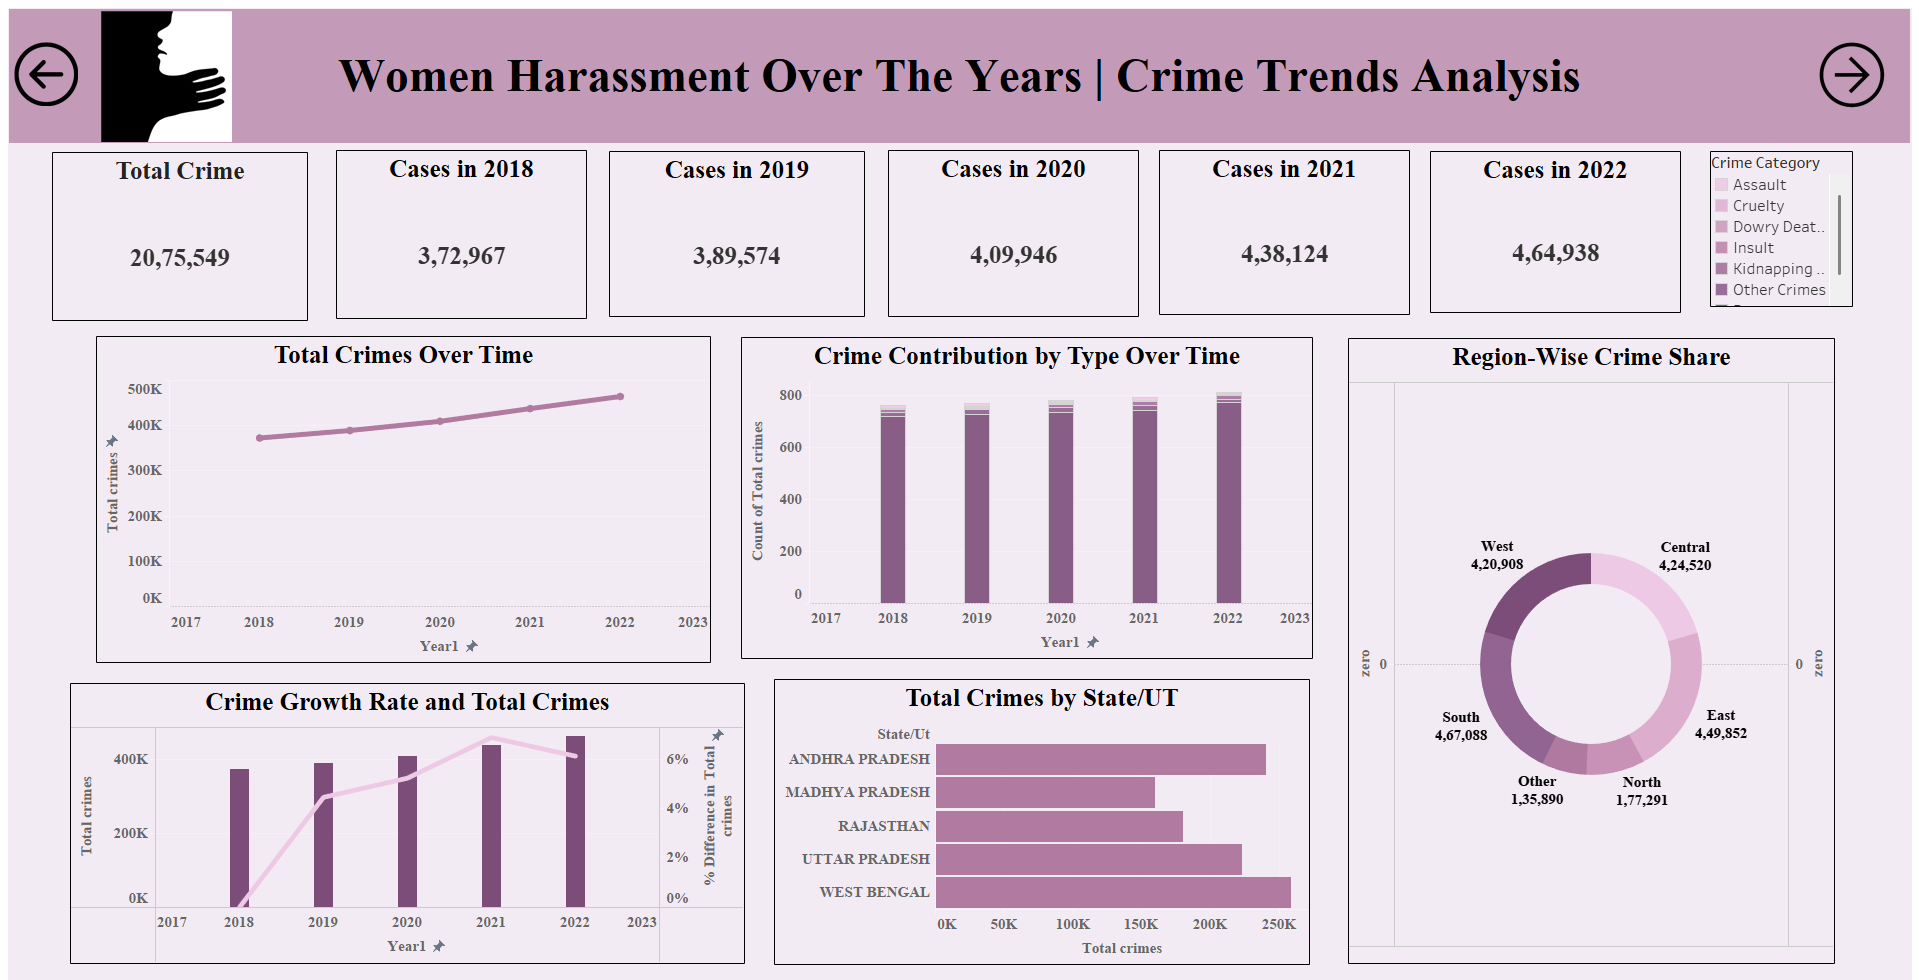

This screenshot's page, from the dashboard's own definition file:
{"tool":"tableau","page":{"name":"Crime Trends Analysis","canvas":[1000,1000],"units":"permille","ordinal":0},"visuals":[{"type":"text","box":[4.7,8.7,990,134.8]},{"type":"image","param":"Image/hand-strangling-choking-neck-victim-250nw-[phone redacted].jpg","box":[39.5,11.2,94.5,132.3]},{"type":"worksheet","title":"2018","mark":"Automatic","box":[175,151.1,131,169.8]},{"type":"worksheet","title":"2020","mark":"Automatic","box":[462.3,151.1,131,168.5]},{"type":"worksheet","title":"2021","mark":"Automatic","box":[603.5,151.1,131,166]},{"type":"worksheet","title":"2019","mark":"Automatic","box":[317.4,152.3,133.4,167.3]},{"type":"worksheet","title":"2022","mark":"Automatic","box":[744.7,152.3,131,163.6]},{"type":"legend","title":"stack","param":"[federated.0kj8snf1r7lt5a13h7fj500s52qf].[none:Calculation_1294221970176462857:n","box":[890.8,152.3,74.2,157.3]},{"type":"worksheet","title":"total crime","mark":"Automatic","box":[27.2,153.6,133.4,169.8]},{"type":"worksheet","title":"Line","mark":"Line","rows":["Total crimes"],"cols":["Year"],"box":[50.2,338.3,320.6,329.6]},{"type":"worksheet","title":"stack","mark":"Bar","rows":["Total crimes"],"cols":["Year"],"box":[385.8,339.6,297.9,324.6]},{"type":"worksheet","title":"Dount","mark":"Pie","rows":["Calculation_1294221972108800018","Calculation_1294221972108800018"],"box":[702.1,340.8,253.6,630.5]},{"type":"worksheet","title":"Bar","mark":"Bar","rows":["STATE/UT"],"cols":["Total crimes"],"box":[403.1,684.1,279.3,288.4]},{"type":"worksheet","title":"Dual ","mark":"Bar","rows":["Total crimes","Total crimes"],"cols":["Year"],"box":[36.5,687.9,351.7,283.4]}]}

Visuals, with their boxes on the dashboard's canvas, which has no fixed pixel size, in thousandths of its width and height (x1, y1, x2, y2). These are canvas units, not pixel positions in the 1919x980 screenshot, which may show the page scaled, cropped or inside an application window:
text: (x1=5, y1=9, x2=995, y2=144)
image: (x1=40, y1=11, x2=134, y2=144)
"2018" worksheet: (x1=175, y1=151, x2=306, y2=321)
"2020" worksheet: (x1=462, y1=151, x2=593, y2=320)
"2021" worksheet: (x1=604, y1=151, x2=734, y2=317)
"2019" worksheet: (x1=317, y1=152, x2=451, y2=320)
"2022" worksheet: (x1=745, y1=152, x2=876, y2=316)
"stack" legend: (x1=891, y1=152, x2=965, y2=310)
"total crime" worksheet: (x1=27, y1=154, x2=161, y2=323)
"Line" worksheet (Line marks): (x1=50, y1=338, x2=371, y2=668)
"stack" worksheet (Bar marks): (x1=386, y1=340, x2=684, y2=664)
"Dount" worksheet (Pie marks): (x1=702, y1=341, x2=956, y2=971)
"Bar" worksheet (Bar marks): (x1=403, y1=684, x2=682, y2=972)
"Dual " worksheet (Bar marks): (x1=36, y1=688, x2=388, y2=971)
